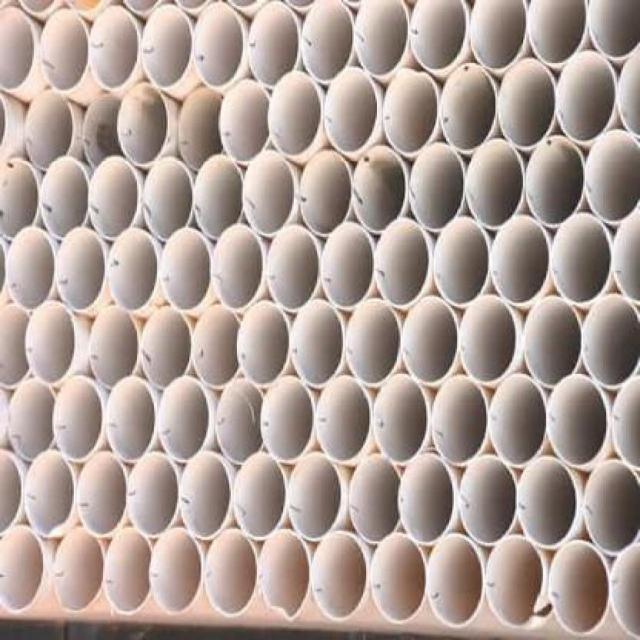pipe: (547, 375, 609, 468), (555, 51, 617, 144), (581, 293, 640, 390), (486, 535, 546, 630), (549, 541, 609, 635), (518, 456, 578, 549), (584, 458, 640, 557), (489, 375, 548, 468), (499, 58, 558, 151), (526, 136, 586, 227), (458, 455, 518, 546), (552, 214, 612, 304), (466, 139, 525, 230), (523, 296, 582, 387), (434, 216, 491, 309), (398, 453, 455, 546), (440, 62, 498, 153), (428, 534, 483, 629), (492, 216, 550, 306), (410, 142, 467, 233), (460, 295, 517, 386), (432, 375, 489, 466), (312, 530, 369, 621), (370, 533, 427, 624), (402, 296, 459, 386), (586, 129, 639, 225), (287, 452, 343, 542), (345, 299, 402, 387), (373, 376, 430, 464), (376, 218, 431, 309), (351, 145, 407, 233), (316, 375, 372, 463), (204, 530, 260, 618), (324, 67, 380, 155), (383, 69, 439, 157), (290, 299, 344, 390), (349, 453, 403, 544), (267, 72, 323, 159), (320, 221, 374, 311), (266, 224, 320, 314), (259, 529, 312, 620), (260, 376, 314, 464), (192, 2, 246, 90), (232, 453, 286, 541), (247, 1, 301, 88), (149, 528, 203, 615), (159, 376, 212, 464), (178, 453, 231, 541), (298, 150, 351, 237), (242, 150, 295, 237), (237, 301, 290, 388), (116, 82, 170, 167), (410, 0, 470, 76), (300, 0, 354, 84), (53, 527, 105, 614), (211, 224, 264, 309), (107, 227, 160, 312), (55, 227, 108, 312), (141, 5, 194, 90), (127, 452, 180, 537), (106, 376, 157, 464), (25, 449, 76, 537), (5, 226, 56, 313), (53, 377, 104, 464), (90, 5, 141, 92), (219, 79, 270, 166), (25, 301, 78, 384), (143, 156, 194, 241), (89, 305, 140, 390), (77, 451, 128, 536), (39, 9, 90, 94), (104, 528, 153, 616), (159, 228, 212, 309), (354, 0, 409, 78), (40, 156, 90, 241), (215, 379, 265, 464), (141, 306, 192, 389), (528, 0, 590, 68), (469, 0, 527, 72), (89, 156, 138, 241), (177, 87, 226, 172), (25, 91, 76, 172), (194, 157, 243, 240), (193, 306, 241, 389), (8, 379, 56, 461), (0, 525, 44, 614), (0, 158, 40, 239), (589, 0, 640, 62), (0, 7, 36, 92), (610, 210, 640, 312), (609, 544, 640, 639)
